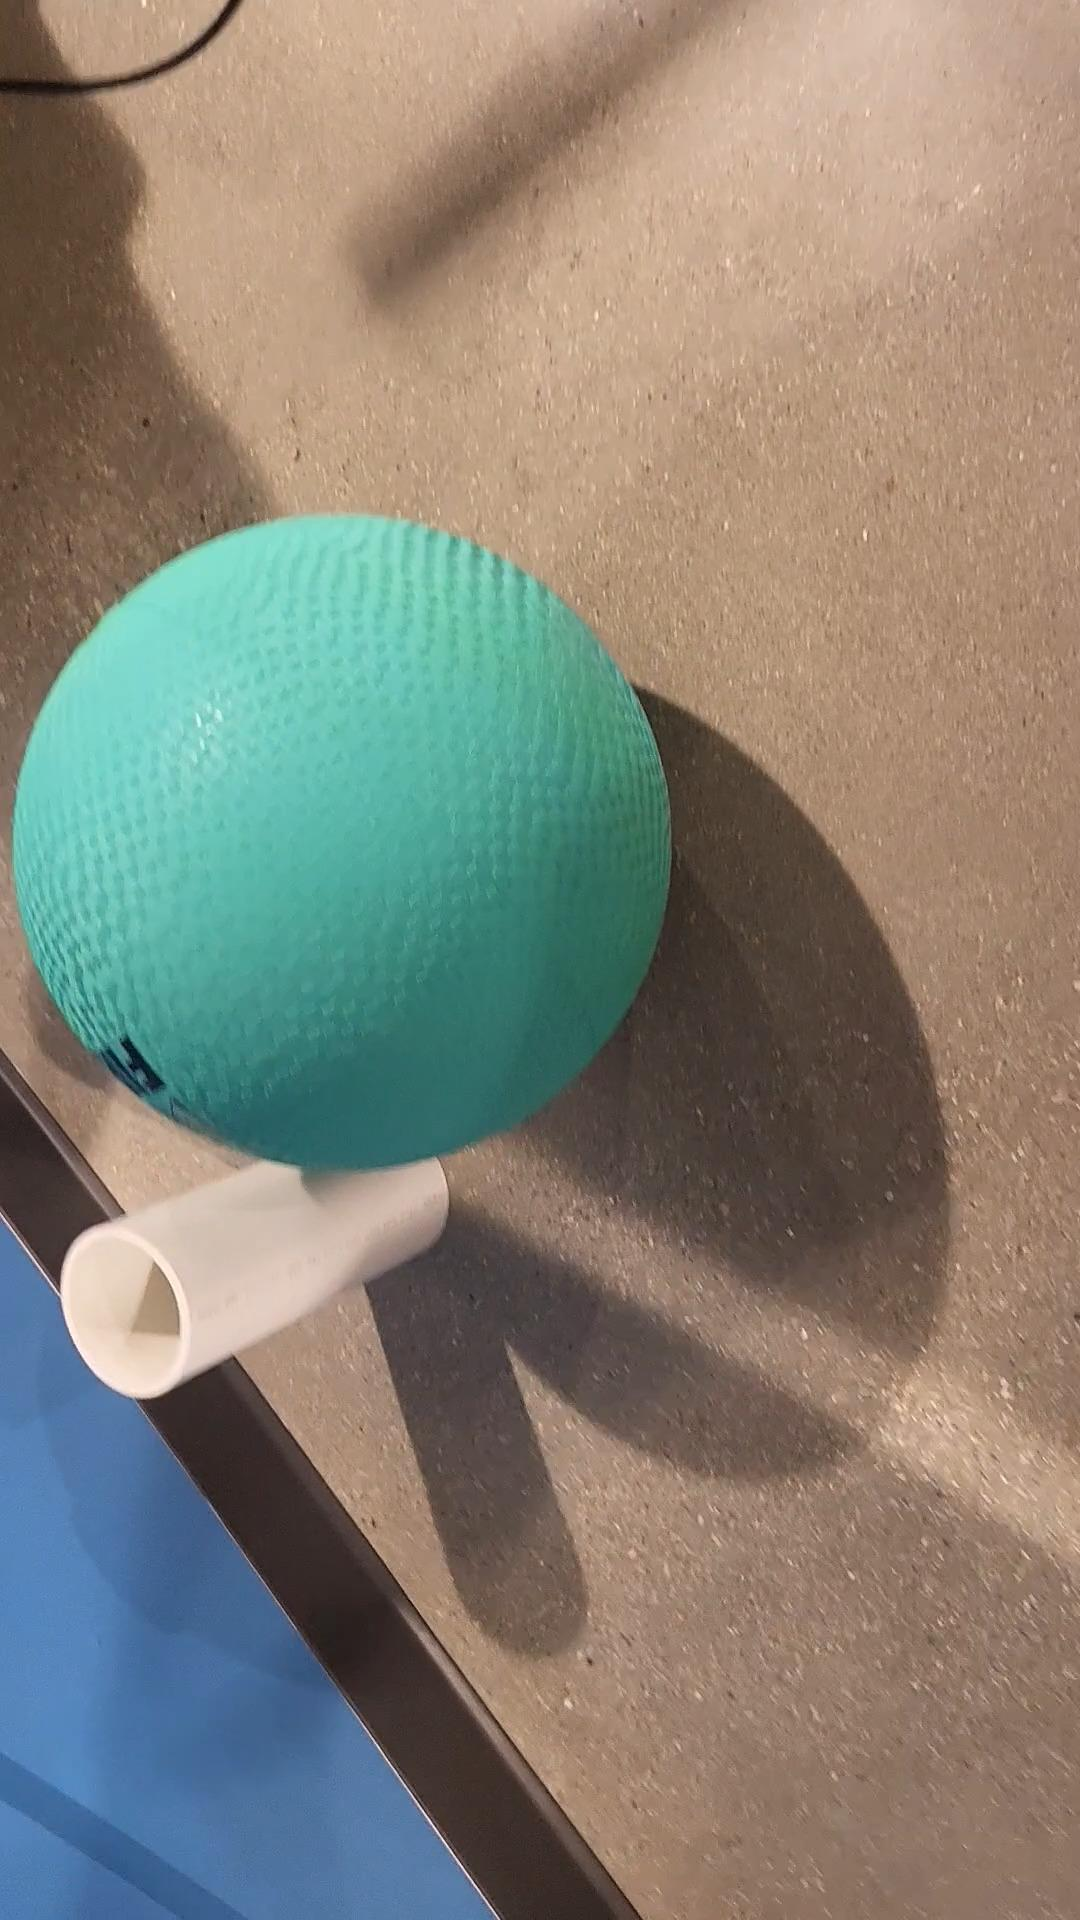algae: (4, 510, 680, 1167)
coral: (53, 1138, 456, 1407)
